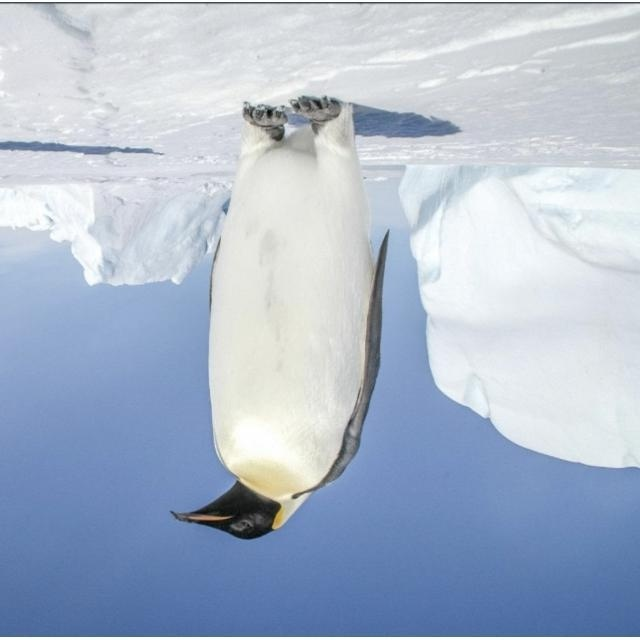penguin: (169, 91, 390, 540)
